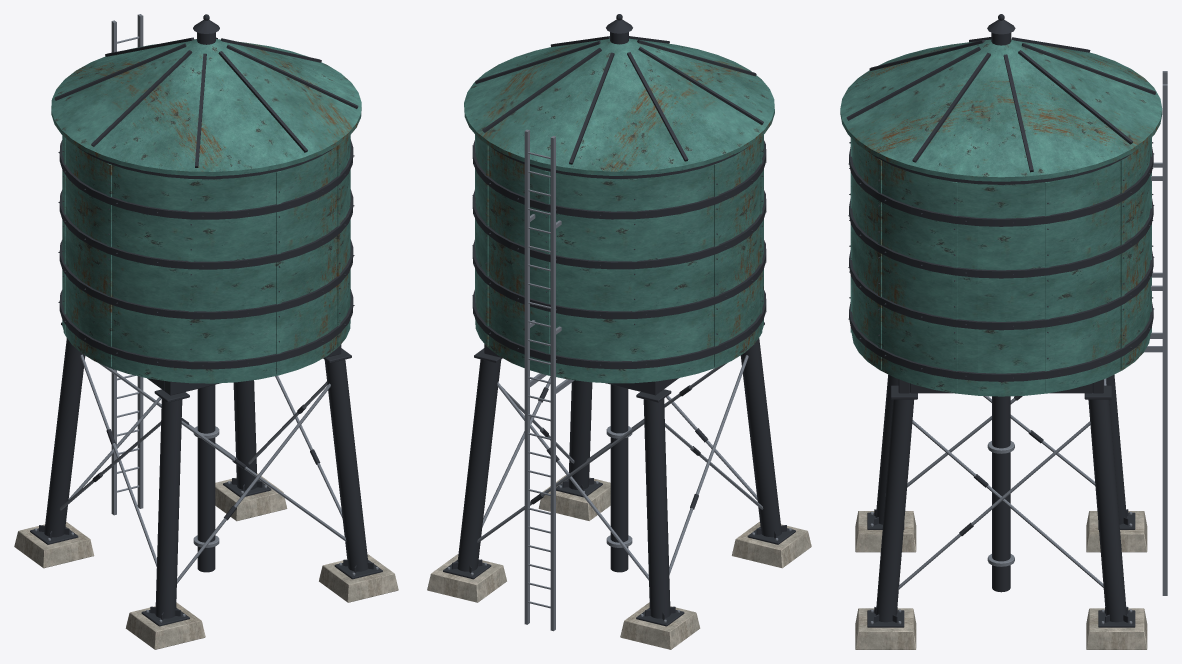
Rendered from destructible_watertower_fractured.glb.
3 views of the same model, side by side, from view 1: azimuth 30°, elevation 25°; view 2: azimuth 150°, elevation 25°; view 3: azimuth 270°, elevation 25° (orthographic). The views are drawn at different scales.
Parts seen in each view (by area): view 1: chunk_004, chunk_011, chunk_016, chunk_006, chunk_010, chunk_014, chunk_018, chunk_025, chunk_008, chunk_021, chunk_023, chunk_015 (+14 smaller); view 2: chunk_009, chunk_018, chunk_010, chunk_003, chunk_014, chunk_017, chunk_013, chunk_002, chunk_021, chunk_019, chunk_023, chunk_025 (+15 smaller); view 3: chunk_017, chunk_012, chunk_007, chunk_005, chunk_008, chunk_018, chunk_001, chunk_015, chunk_025, chunk_019, chunk_013, chunk_016 (+17 smaller).
Boxes of the visible parts, <box> form: chunk_004: <box>147,268,331,383</box>; chunk_011: <box>162,142,342,271</box>; chunk_016: <box>113,67,313,176</box>; chunk_006: <box>66,232,206,377</box>; chunk_010: <box>58,135,163,243</box>; chunk_014: <box>51,63,144,162</box>; chunk_018: <box>89,14,227,111</box>; chunk_025: <box>319,438,398,602</box>; chunk_008: <box>288,157,354,311</box>; chunk_021: <box>14,412,94,568</box>; chunk_023: <box>125,493,205,649</box>; chunk_015: <box>267,84,361,157</box>; chunk_009: <box>509,174,683,347</box>; chunk_018: <box>501,14,714,174</box>; chunk_010: <box>621,135,766,271</box>; chunk_003: <box>603,270,750,383</box>; chunk_014: <box>588,86,773,175</box>; chunk_017: <box>464,36,634,152</box>; chunk_013: <box>473,136,581,247</box>; chunk_002: <box>477,302,603,382</box>; chunk_021: <box>620,487,700,649</box>; chunk_019: <box>427,442,506,602</box>; chunk_023: <box>732,418,811,568</box>; chunk_025: <box>538,380,610,520</box>; chunk_017: <box>933,50,1152,181</box>; chunk_012: <box>886,161,1095,297</box>; chunk_007: <box>1009,229,1148,367</box>; chunk_005: <box>867,288,1012,395</box>; chunk_008: <box>851,183,977,314</box>; chunk_018: <box>962,14,1162,135</box>; chunk_001: <box>978,308,1099,396</box>; chunk_015: <box>845,86,954,178</box>; chunk_025: <box>855,483,916,649</box>; chunk_019: <box>1086,485,1147,649</box>; chunk_013: <box>1079,138,1153,237</box>; chunk_016: <box>840,43,964,129</box>.
Size of the model in its own units: 4.52 by 8.89 by 4.6.
Materials: 6 (3 with a texture image).
